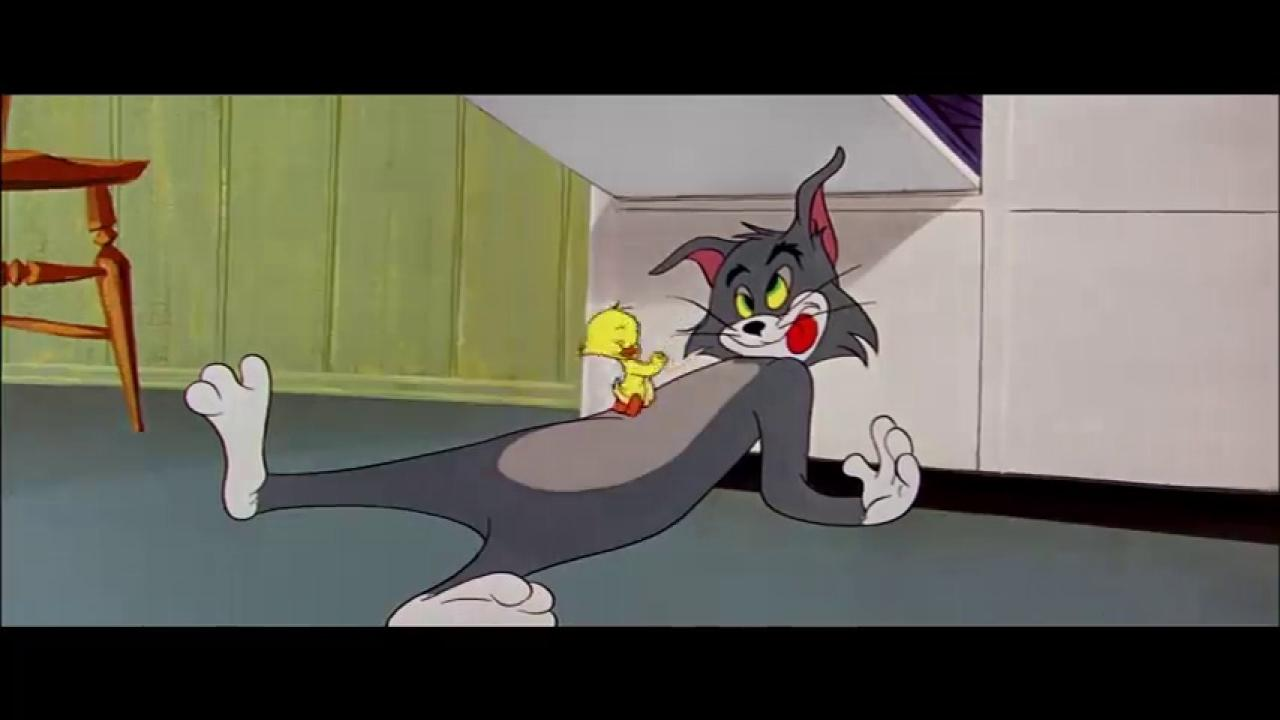Tom: (182, 144, 924, 624)
